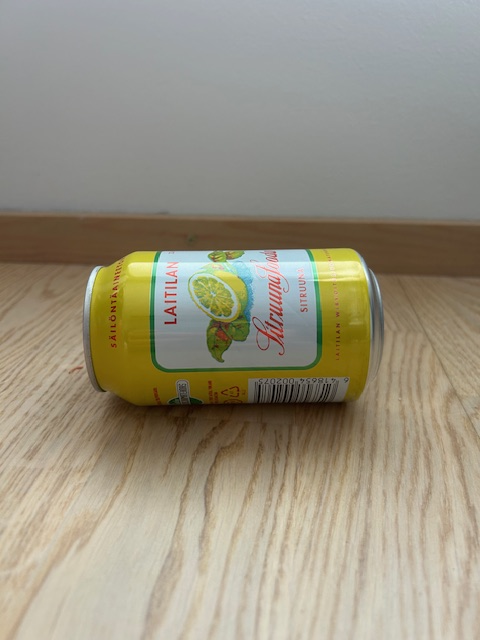Pantburk: (82, 248, 384, 407)
